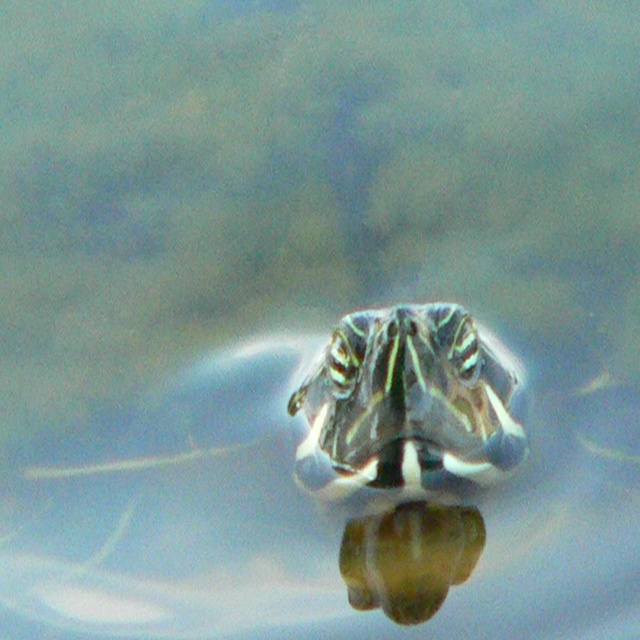Sea turtle: (0, 304, 639, 639)
